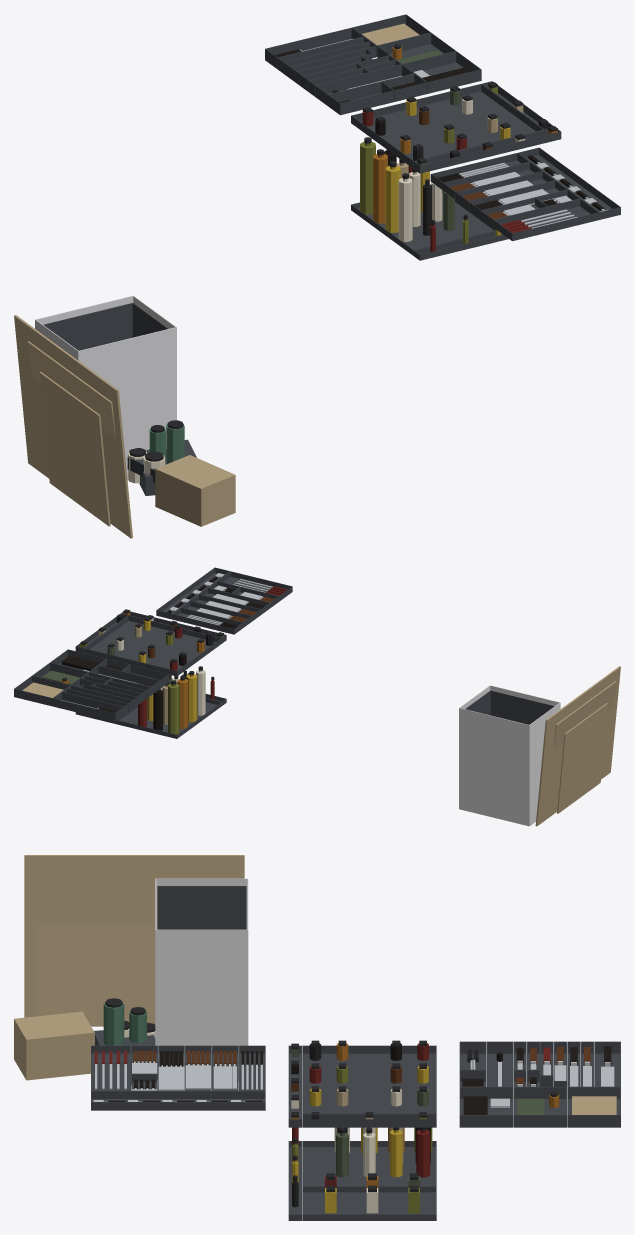
File: ground_floor.contents.glb
The picture shows the model from 3 angles, top to bottom: view 1: azimuth 30°, elevation 25°; view 2: azimuth 150°, elevation 25°; view 3: azimuth 270°, elevation 25°; orthographic projection. The views are drawn at different scales.
Parts seen in each view (by area): view 1: contents__SF-C850-D1-CONTENTS__ (×4), contents__SF-I600a-D1-CONTENTS__, contents__SF-I600b-D1-CONTENTS__ (×2), contents__SF-I500b-D1-CONTENTS__ (×2), contents__SF-I500b-D2-CONTENTS__ (×5); view 2: contents__SF-C850-D1-CONTENTS__ (×3), contents__SF-I600a-D1-CONTENTS__ (×3), contents__SF-I600b-D1-CONTENTS__ (×2), contents__SF-I500b-D1-CONTENTS__ (×2), contents__SF-I500b-D2-CONTENTS__ (×6); view 3: contents__SF-C850-D1-CONTENTS__ (×4), contents__SF-I600a-D1-CONTENTS__ (×4), contents__SF-I600b-D1-CONTENTS__ (×4), contents__SF-I500b-D2-CONTENTS__ (×6), contents__SF-I500b-D1-CONTENTS__ (×2).
Part boxes in pixels (x1=…): contents__SF-C850-D1-CONTENTS__ (×4): x1=14, y1=295, x2=235, y2=538; contents__SF-I600a-D1-CONTENTS__: x1=265, y1=14, x2=481, y2=115; contents__SF-I600b-D1-CONTENTS__ (×2): x1=430, y1=147, x2=620, y2=241; contents__SF-I500b-D1-CONTENTS__ (×2): x1=351, y1=81, x2=561, y2=173; contents__SF-I500b-D2-CONTENTS__ (×5): x1=351, y1=142, x2=508, y2=260; contents__SF-C850-D1-CONTENTS__ (×3): x1=459, y1=666, x2=620, y2=826; contents__SF-I600a-D1-CONTENTS__ (×3): x1=14, y1=649, x2=169, y2=721; contents__SF-I600b-D1-CONTENTS__ (×2): x1=156, y1=567, x2=292, y2=634; contents__SF-I500b-D1-CONTENTS__ (×2): x1=75, y1=609, x2=226, y2=676; contents__SF-I500b-D2-CONTENTS__ (×6): x1=75, y1=669, x2=226, y2=738; contents__SF-C850-D1-CONTENTS__ (×4): x1=14, y1=855, x2=248, y2=1084; contents__SF-I600a-D1-CONTENTS__ (×4): x1=459, y1=1041, x2=620, y2=1127; contents__SF-I600b-D1-CONTENTS__ (×4): x1=91, y1=1045, x2=265, y2=1110; contents__SF-I500b-D2-CONTENTS__ (×6): x1=288, y1=1127, x2=436, y2=1220; contents__SF-I500b-D1-CONTENTS__ (×2): x1=288, y1=1040, x2=436, y2=1127.
Size of the model in its own units: 2.19 by 0.7025 by 1.89.
